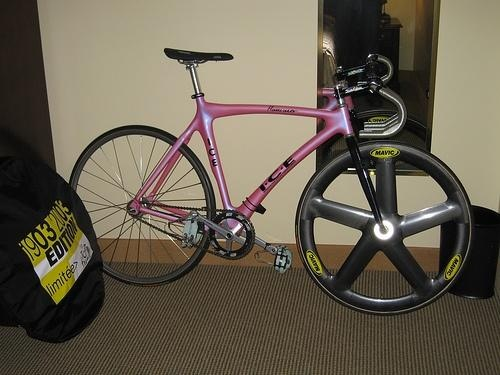bicycle: (70, 49, 475, 317)
